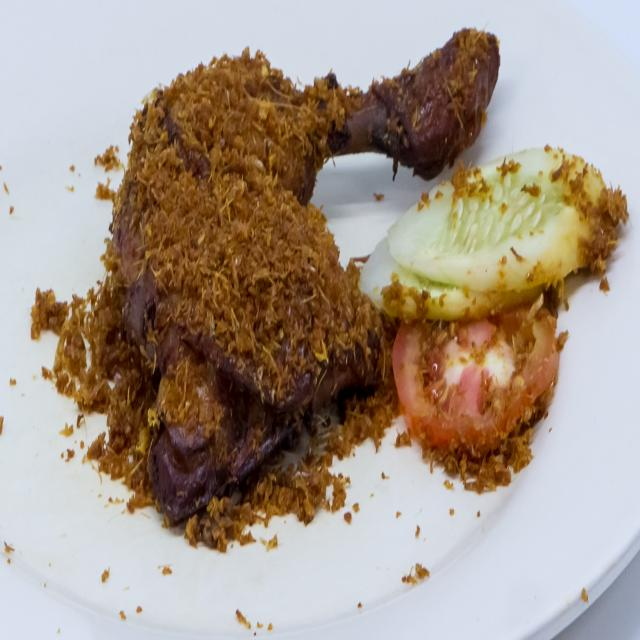Ayam-Goreng-Lengkuas: (95, 18, 508, 568)
